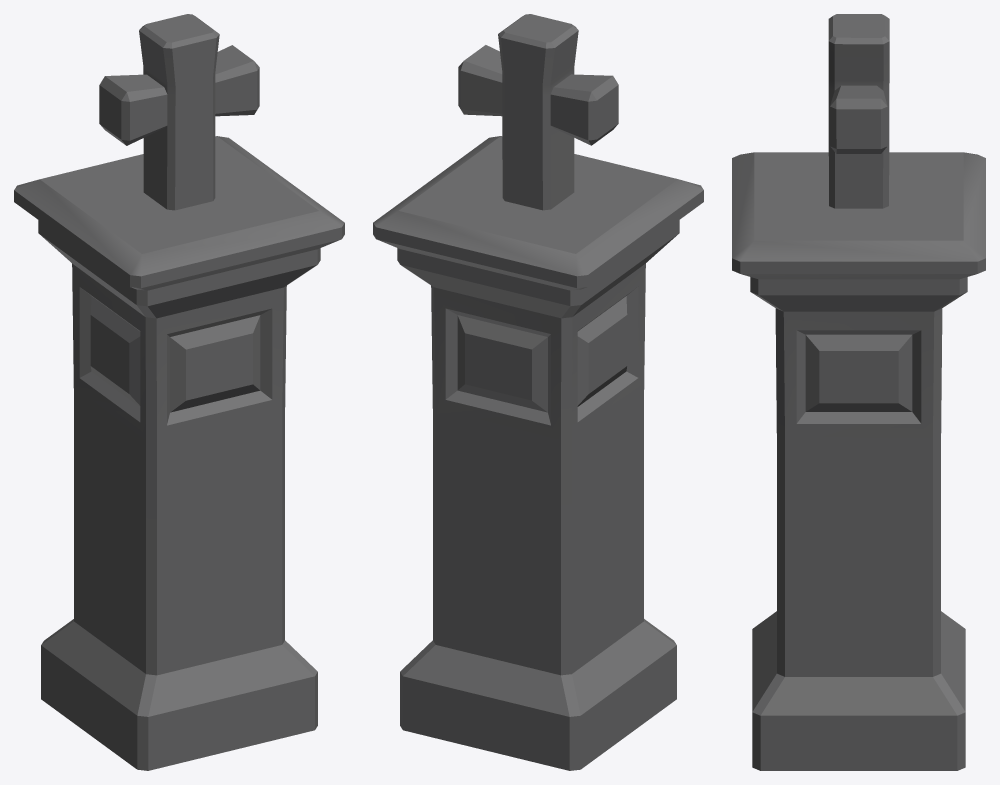
Rendered from Pillar_3.fbx.
The picture shows the model from 3 angles, left to right: view 1: azimuth 30°, elevation 25°; view 2: azimuth 150°, elevation 25°; view 3: azimuth 270°, elevation 25°; orthographic projection. The views are drawn at different scales.
Visible parts, largest first — view 1: Pillar_3; view 2: Pillar_3; view 3: Pillar_3.
Part boxes in pixels (bbox=[...]): Pillar_3: bbox=[14, 14, 344, 770]; Pillar_3: bbox=[373, 14, 703, 770]; Pillar_3: bbox=[732, 14, 985, 770].
Bounding box in the file's own units: 30.9 × 94.05 × 30.9.
